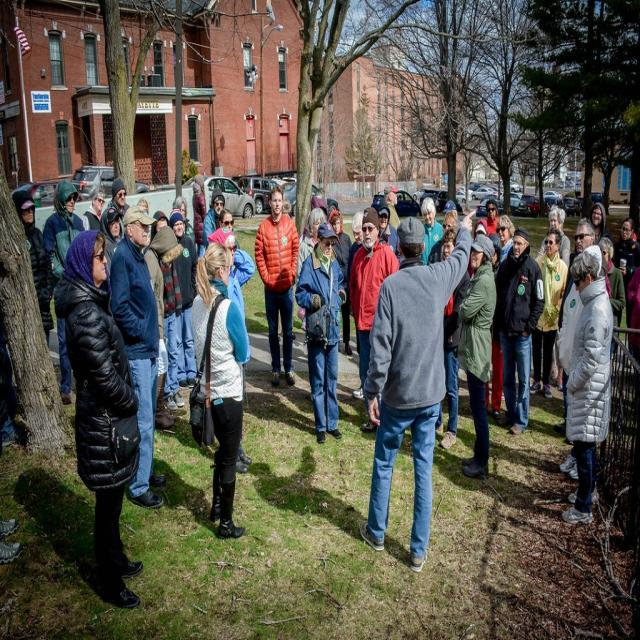body: (357, 205, 479, 577), (51, 227, 148, 613), (107, 202, 170, 512), (186, 239, 248, 542), (559, 245, 616, 530), (555, 240, 616, 483), (551, 214, 611, 448), (206, 226, 256, 475), (294, 216, 348, 445), (349, 206, 401, 436), (492, 224, 546, 438), (454, 232, 498, 486), (40, 177, 86, 406), (252, 182, 300, 388), (434, 225, 474, 452), (143, 224, 185, 432), (525, 224, 571, 401), (149, 208, 187, 413), (11, 188, 57, 352), (537, 202, 572, 392), (168, 205, 198, 391), (265, 194, 299, 344), (0, 314, 31, 460), (610, 217, 639, 371), (327, 208, 354, 358), (484, 232, 504, 421), (597, 235, 627, 361), (346, 209, 364, 399), (293, 206, 329, 292), (296, 206, 328, 283), (371, 195, 404, 265), (625, 264, 640, 401), (418, 195, 446, 266), (0, 500, 27, 571), (426, 208, 458, 266), (99, 205, 123, 279), (202, 184, 226, 249), (191, 173, 207, 259), (171, 194, 197, 246), (80, 188, 106, 232), (588, 200, 614, 244), (107, 176, 131, 221), (216, 207, 241, 249), (496, 213, 516, 264), (382, 182, 402, 230), (442, 198, 462, 232), (485, 198, 501, 236), (34, 183, 56, 203), (472, 217, 490, 241), (136, 193, 153, 216), (209, 178, 234, 192), (314, 186, 330, 204), (398, 190, 406, 202)
